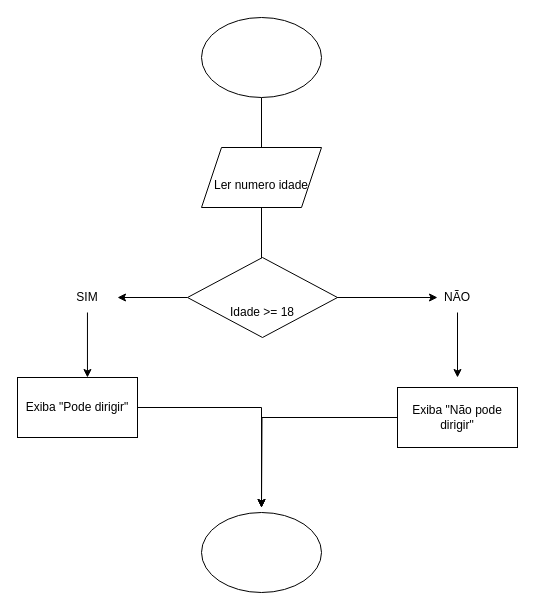
This 535x610 diagram has some shape labels left out. Each missing label, with the centre of its shape:
fim: (x=261, y=552)
Inicio: (x=261, y=57)
